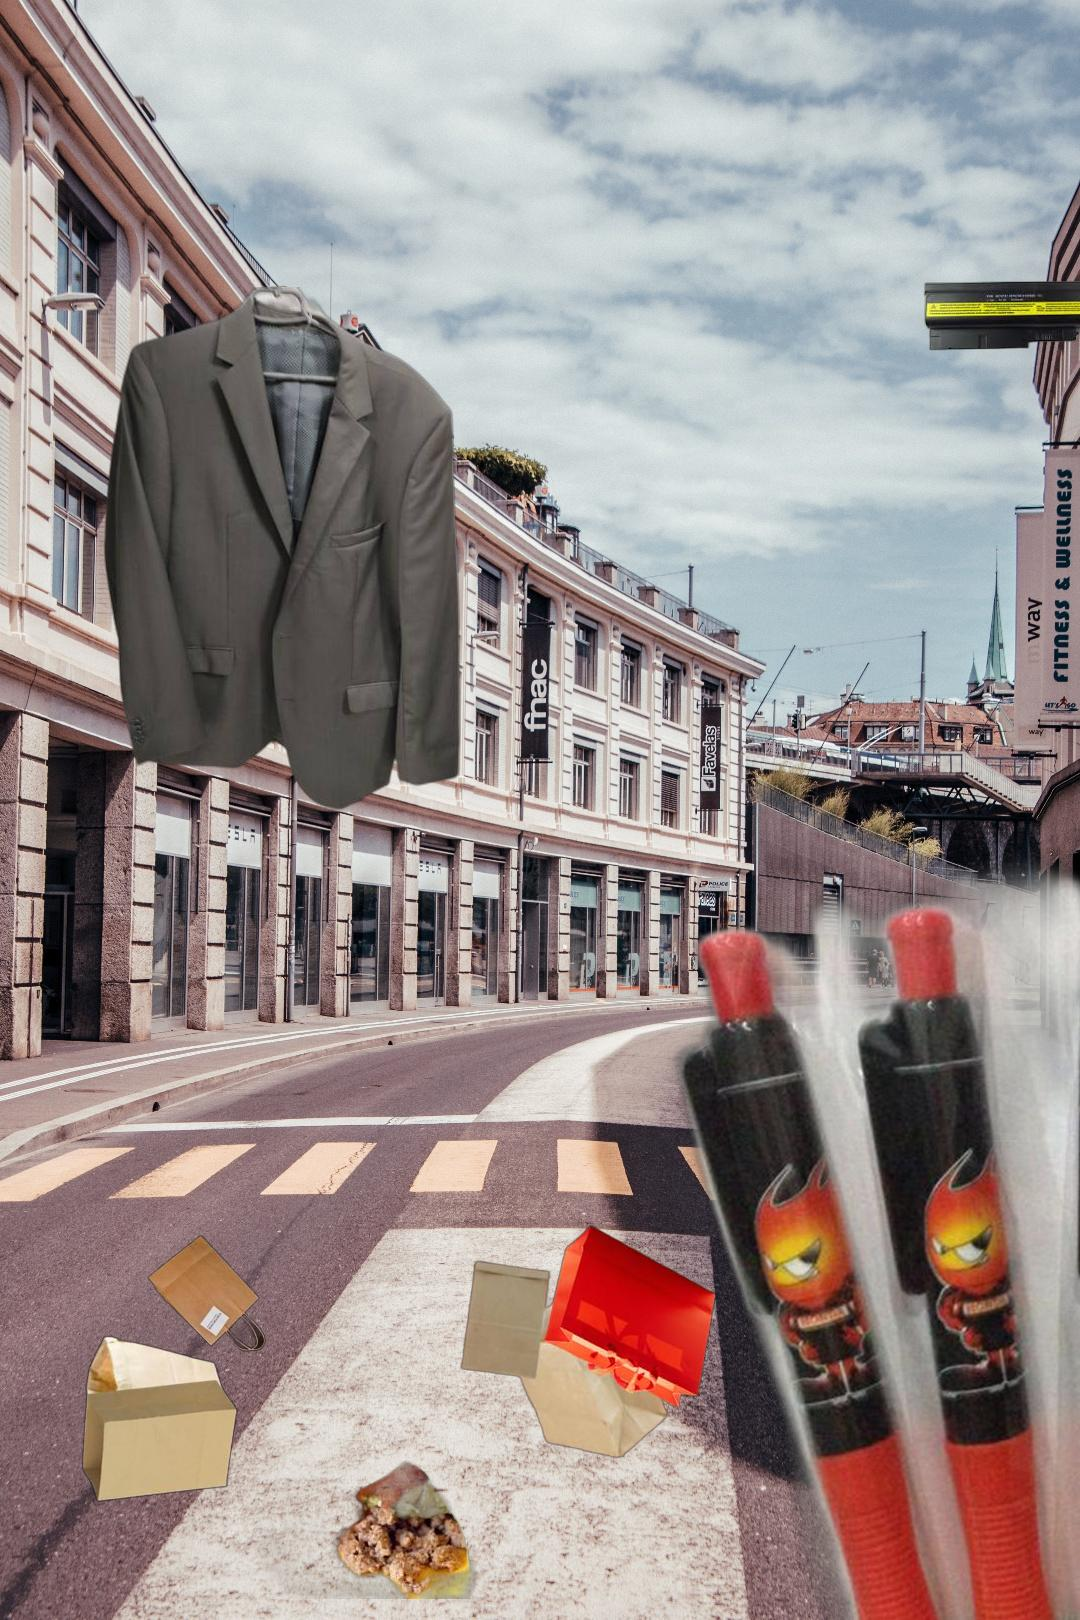battery: (922, 278, 1080, 353)
biological: (242, 1460, 526, 1600)
clothes: (101, 287, 464, 812)
paper-bag: (458, 1223, 718, 1461), (64, 1233, 269, 1524)
penholder: (661, 698, 1080, 1620)
